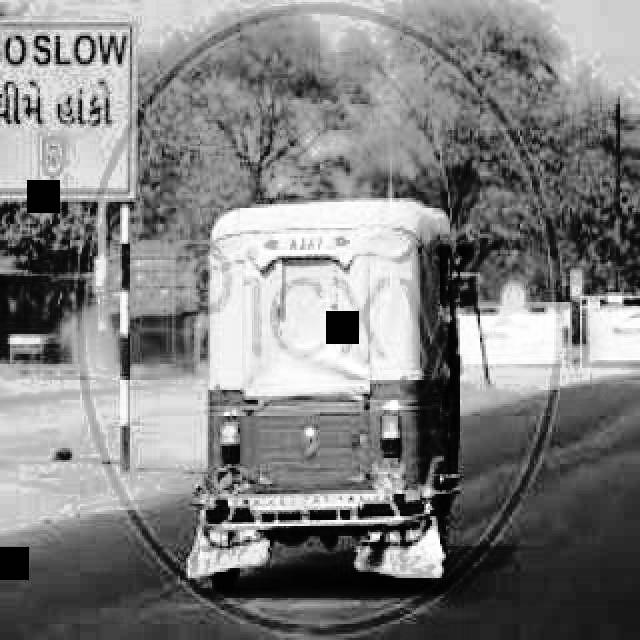Auto-Rickshaw: (190, 200, 464, 590)
